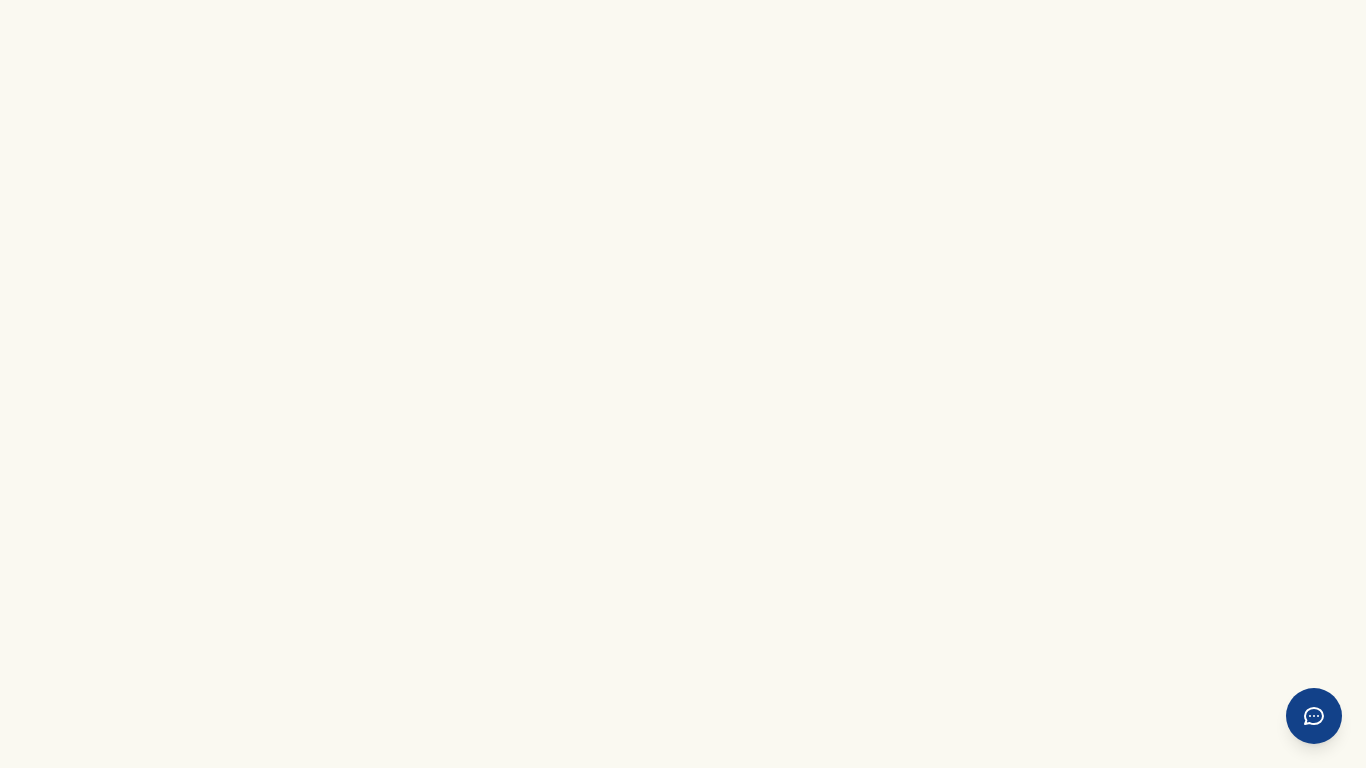
Test: ConciergeChat › renders escalation notice when onEscalation is called
The image size is (1366, 768).
Click the button named "open concierge": (1314, 716) [1286,688,1342,744]
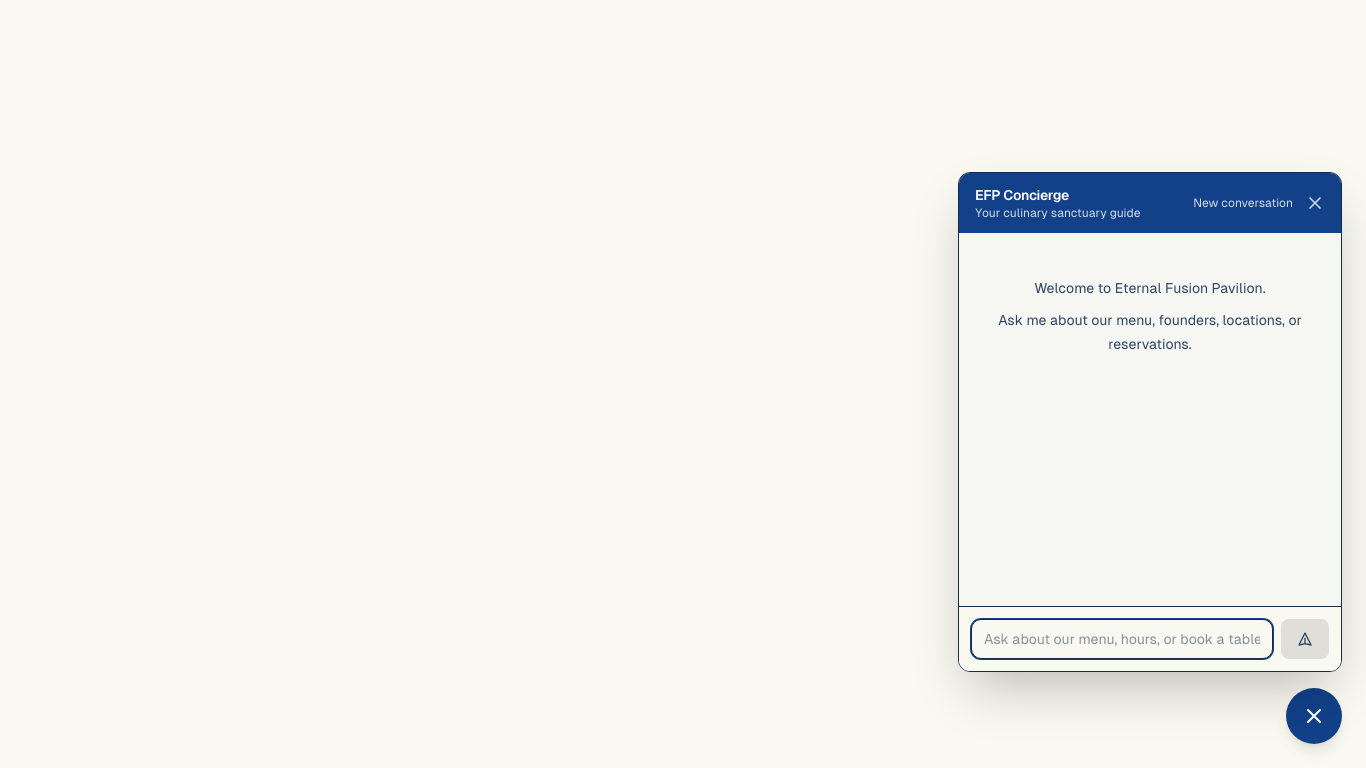
In the field named "type your message": (1122, 639) [971,619,1273,659], type "15 people"
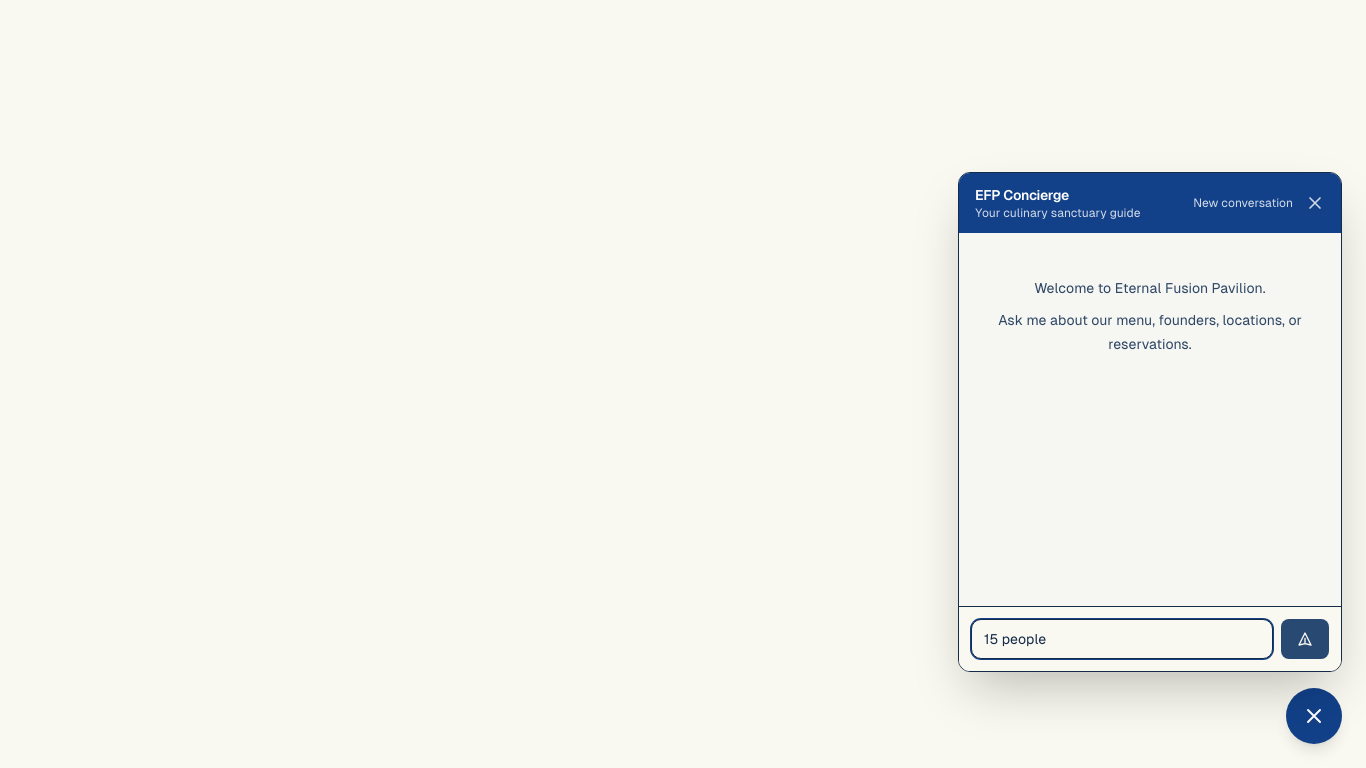
Press Enter in the field named "type your message", box [971,619,1273,659]
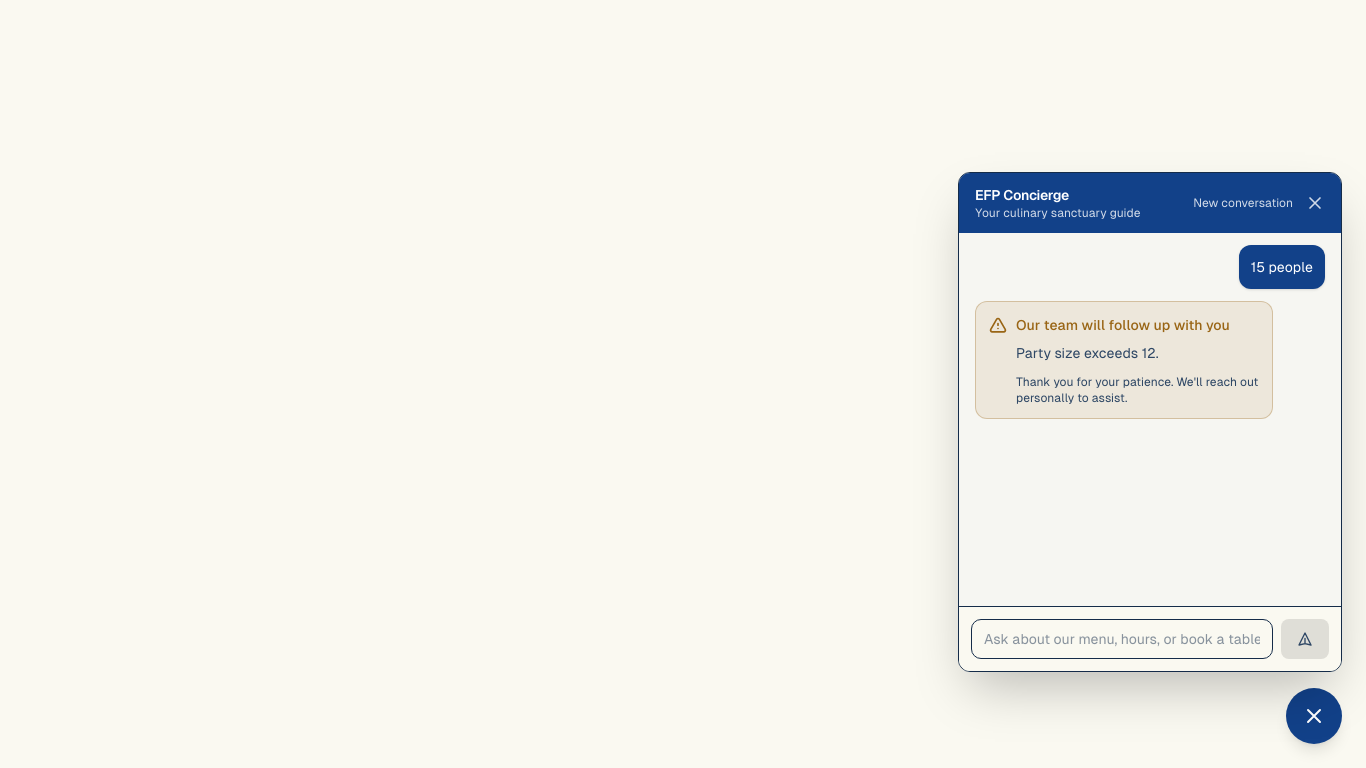
Now the text "Our team will follow up with you" is shown, box [1016,314,1260,338]
